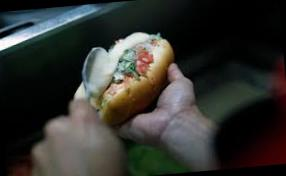Completos: (61, 21, 190, 108)
